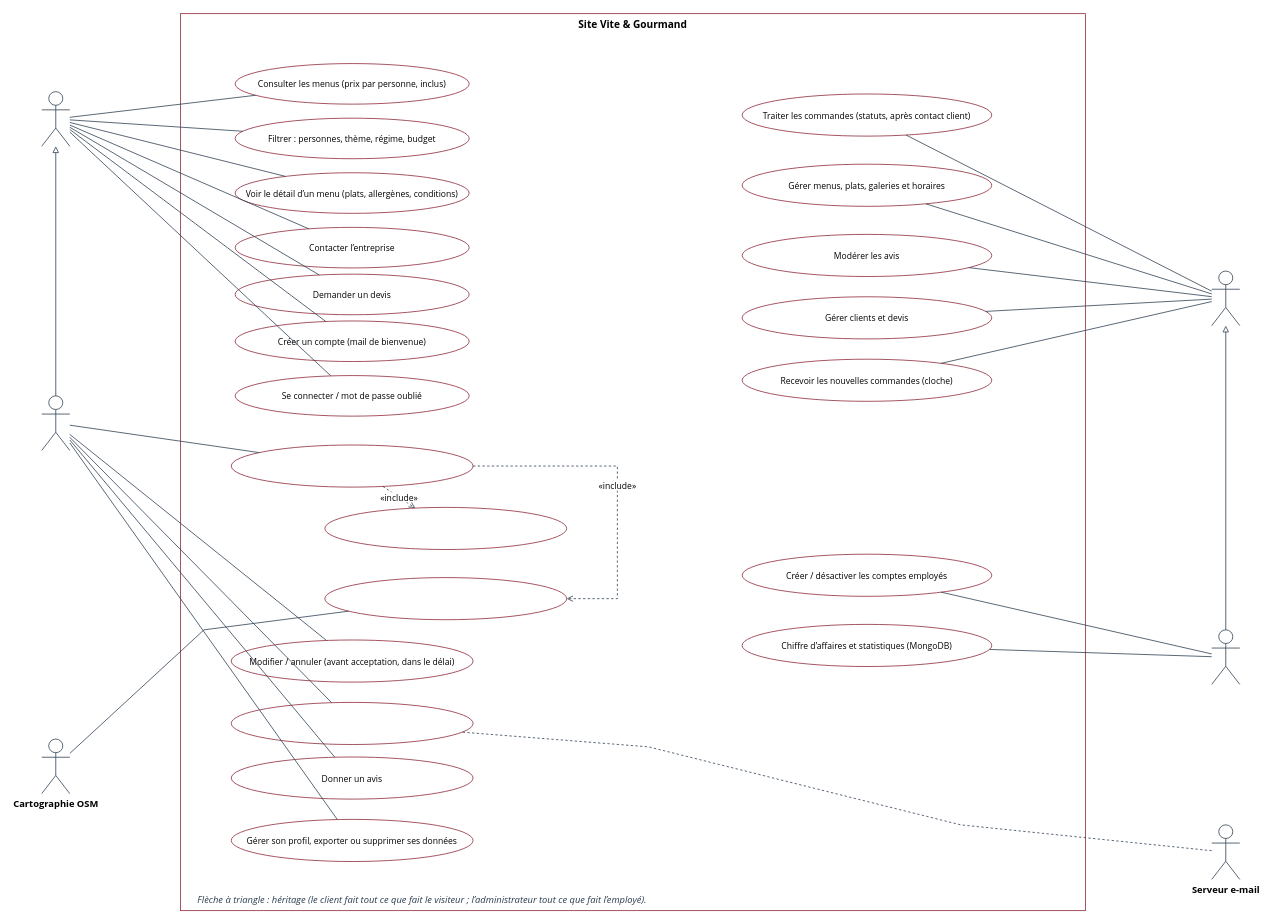
This 1275x924 diagram has some shape labels left out. Each missing label, with the box of its shape:
Administrateur: (1211, 629, 1240, 684)
Client: (41, 395, 70, 450)
Commander un menu: (230, 444, 473, 487)
Composer son menu (choix, remplacement, sans allergène): (324, 507, 567, 550)
Employé: (1211, 270, 1240, 326)
Suivre sa commande (notifications, e-mails): (230, 702, 473, 745)
Visiteur: (41, 91, 70, 146)
Vérifier l’adresse (Bordeaux + 25 km): (324, 577, 567, 620)
